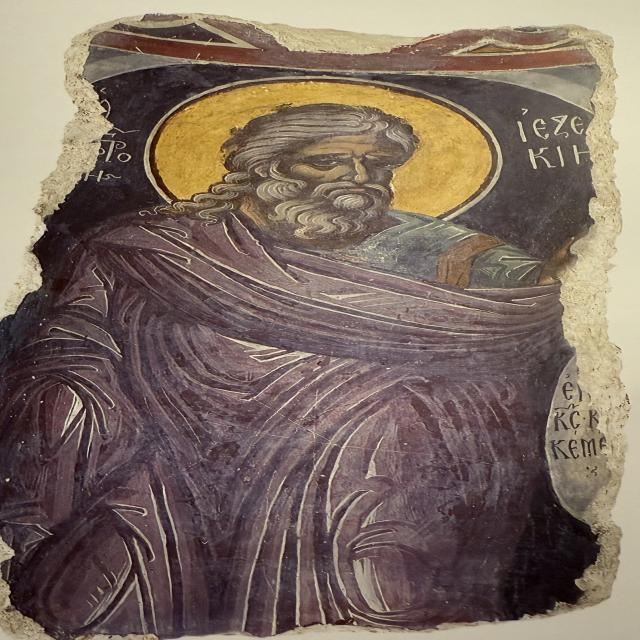aura: (141, 74, 509, 238)
saint: (20, 61, 610, 633)
